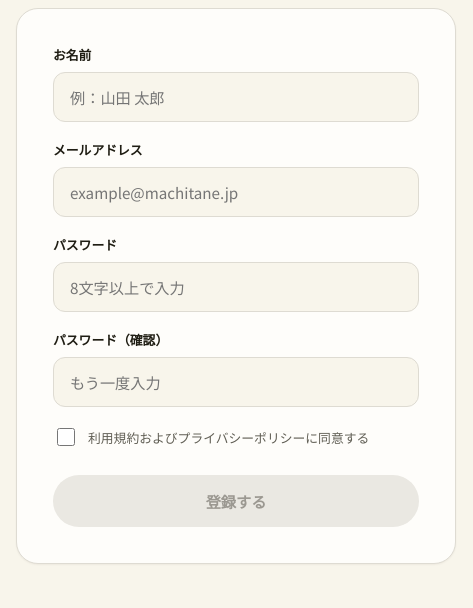
it: SignupForm › メールアドレスの形式が不正だとエラーになる
Type "山田太郎" into the field with id "signup-name" at point(236, 97), box [53,72,419,122]
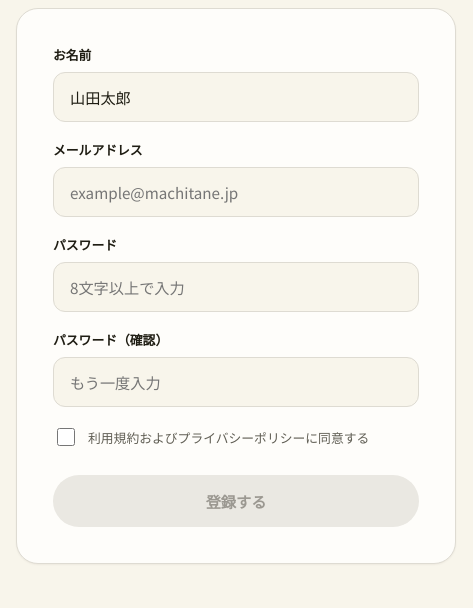
Type "not-an-email" into the field with id "signup-email" at point(236, 192), box [53,167,419,217]
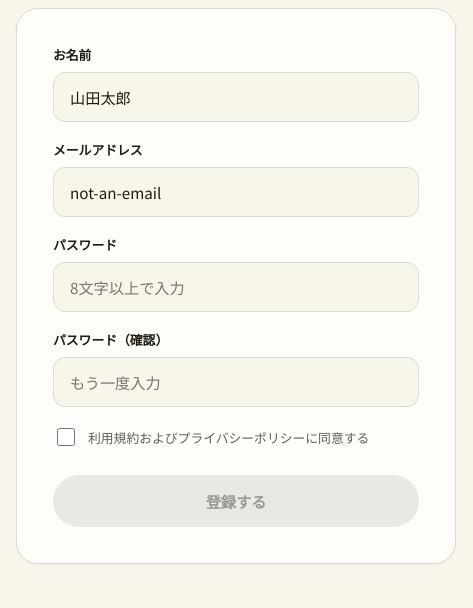
Type "password123" into the password field with id "signup-password" at point(236, 287), box [53,262,419,312]
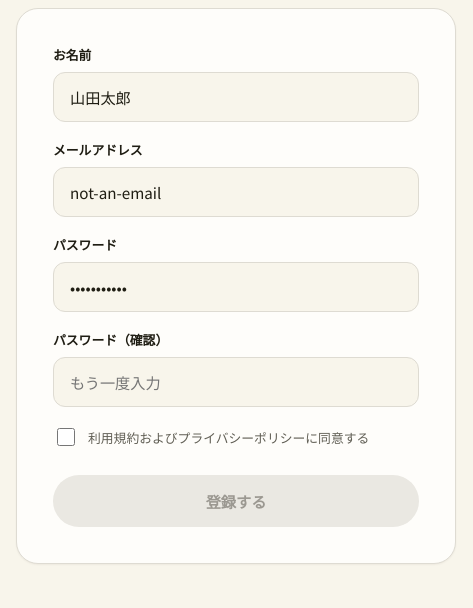
Type "password123" into the password field with id "signup-password-confirmation" at point(236, 382), box [53,357,419,407]
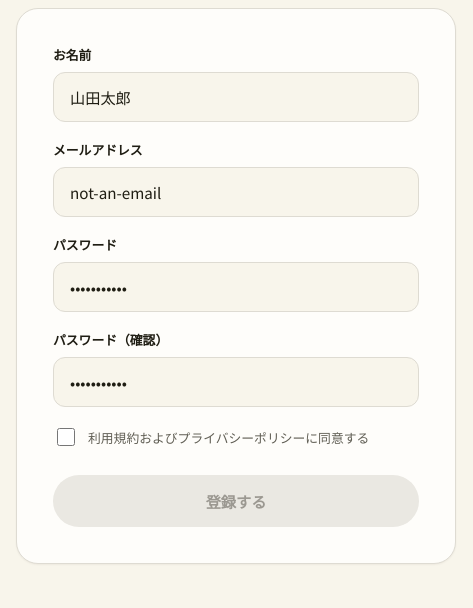
Click the checkbox labelled "利用規約およびプライバシーポリシーに同意する" at point(66, 437), box [57,428,75,446]
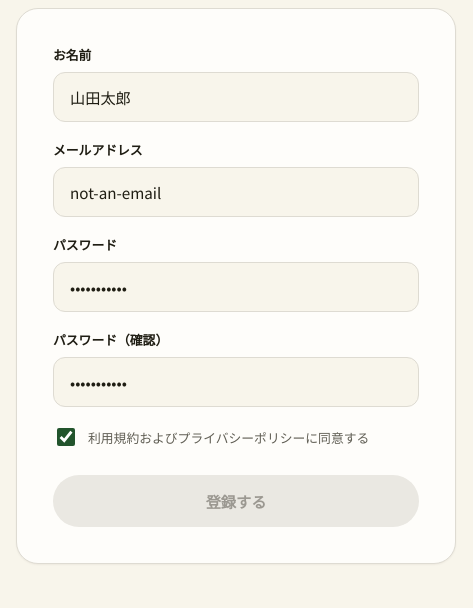
Submit the form
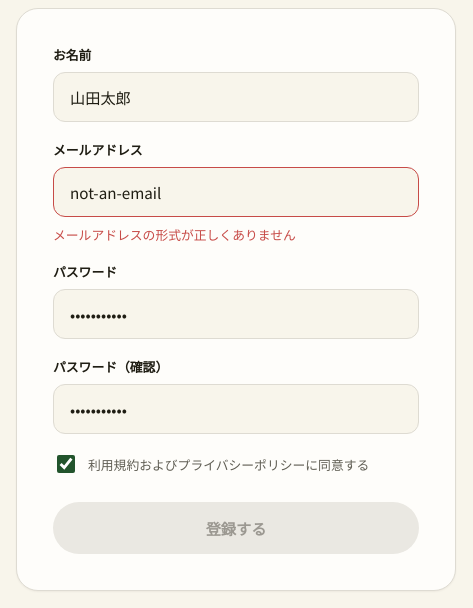
Expected: the form shows "メールアドレスの形式が正しくありません", [53,225,296,244]
